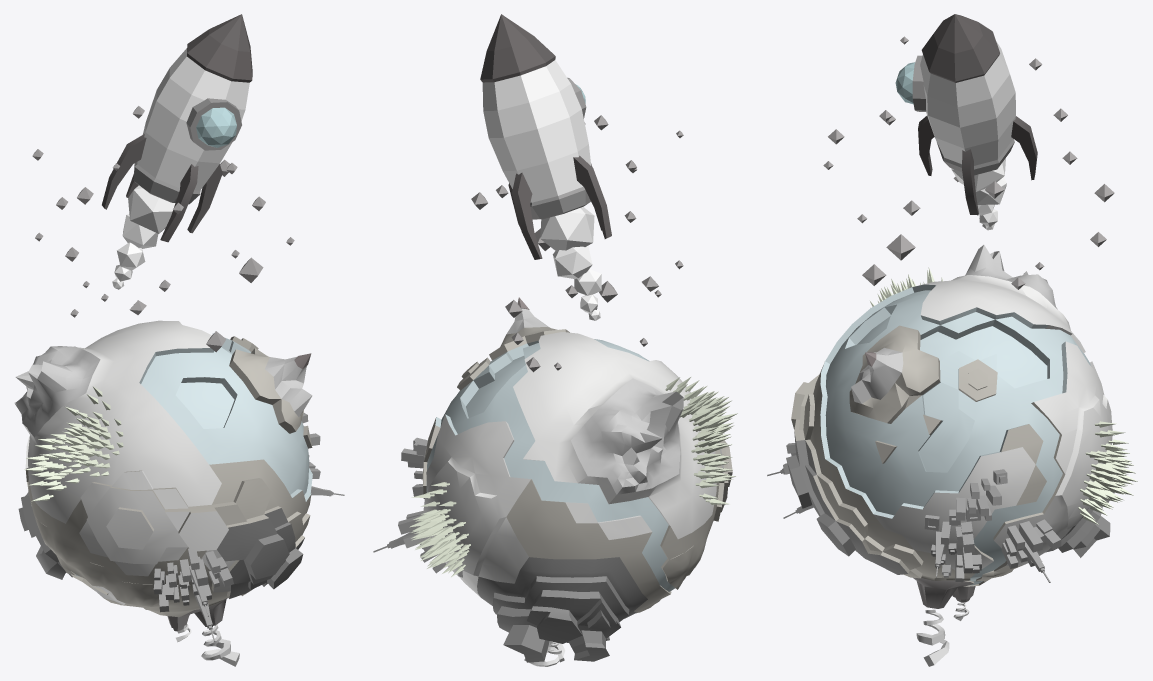
File: rocket14.glb
The picture shows the model from 3 angles, left to right: view 1: azimuth 30°, elevation 25°; view 2: azimuth 150°, elevation 25°; view 3: azimuth 270°, elevation 25°; orthographic projection. The views are drawn at different scales.
Parts seen in each view (by area): view 1: Grass, Ground, Water, Rocket_Ship_01_Material_#27_0, Rocky_Mountains, Mountains, Rocket_Ship_01_Material_#28_0, Forest, City, Rocket_Ship_01_Material_#42_0, Rocket_Ship_01_Material_#29_0, Rocket_Ship_01_Material_#30_0 (+2 smaller); view 2: Grass, Rocky_Mountains, Ground, Rocket_Ship_01_Material_#27_0, Water, Mountains, Forest, Rocket_Ship_01_Material_#28_0, Rocket_Ship_01_Material_#42_0, City, Rocket_Ship_01_Material_#29_0; view 3: Water, Grass, Ground, Rocket_Ship_01_Material_#27_0, Rocket_Ship_01_Material_#28_0, City, Rocky_Mountains, Mountains, Forest, Rocket_Ship_01_Material_#42_0, Volcano, Rocket_Ship_01_Material_#29_0 (+2 smaller).
Part boxes in pixels (left/top/right/bottom): Grass: left=23, top=320, right=235, bottom=604; Ground: left=25, top=336, right=312, bottom=617; Water: left=76, top=333, right=312, bottom=576; Rocket_Ship_01_Material_#27_0: left=137, top=48, right=249, bottom=190; Rocky_Mountains: left=18, top=492, right=304, bottom=598; Mountains: left=14, top=346, right=312, bottom=437; Rocket_Ship_01_Material_#28_0: left=102, top=14, right=252, bottom=242; Forest: left=24, top=386, right=123, bottom=501; City: left=153, top=413, right=344, bottom=641; Rocket_Ship_01_Material_#42_0: left=112, top=185, right=175, bottom=289; Rocket_Ship_01_Material_#29_0: left=133, top=98, right=241, bottom=204; Rocket_Ship_01_Material_#30_0: left=196, top=107, right=236, bottom=147; Grass: left=423, top=332, right=724, bottom=601; Rocky_Mountains: left=477, top=557, right=647, bottom=662; Ground: left=422, top=327, right=732, bottom=613; Rocket_Ship_01_Material_#27_0: left=482, top=60, right=591, bottom=202; Water: left=426, top=339, right=674, bottom=591; Mountains: left=506, top=308, right=683, bottom=494; Forest: left=409, top=377, right=737, bottom=577; Rocket_Ship_01_Material_#28_0: left=480, top=14, right=611, bottom=259; Rocket_Ship_01_Material_#42_0: left=540, top=207, right=601, bottom=320; City: left=373, top=437, right=446, bottom=573; Rocket_Ship_01_Material_#29_0: left=530, top=77, right=590, bottom=219; Water: left=820, top=284, right=1090, bottom=585; Grass: left=873, top=275, right=1112, bottom=570; Ground: left=791, top=325, right=1065, bottom=586; Rocket_Ship_01_Material_#27_0: left=920, top=41, right=1015, bottom=165; Rocket_Ship_01_Material_#28_0: left=918, top=14, right=1037, bottom=215; City: left=767, top=443, right=1061, bottom=582; Rocky_Mountains: left=786, top=432, right=1114, bottom=574; Mountains: left=851, top=245, right=1057, bottom=403; Forest: left=870, top=267, right=1137, bottom=524; Rocket_Ship_01_Material_#42_0: left=951, top=158, right=1006, bottom=230; Volcano: left=913, top=577, right=975, bottom=608; Rocket_Ship_01_Material_#29_0: left=912, top=55, right=1014, bottom=175.
Bounding box in the file's own units: 0.2164 × 0.4249 × 0.2161.
